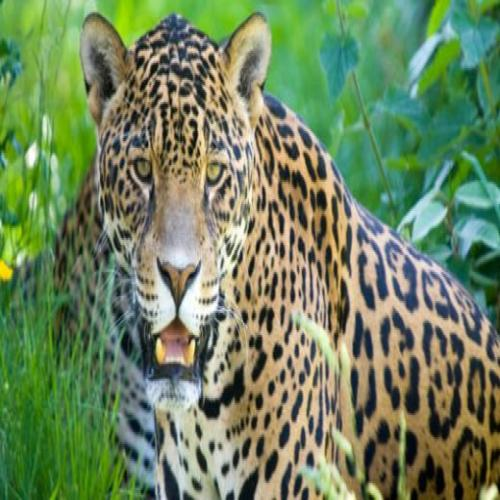jaguar_not-endangered: (83, 25, 460, 497)
